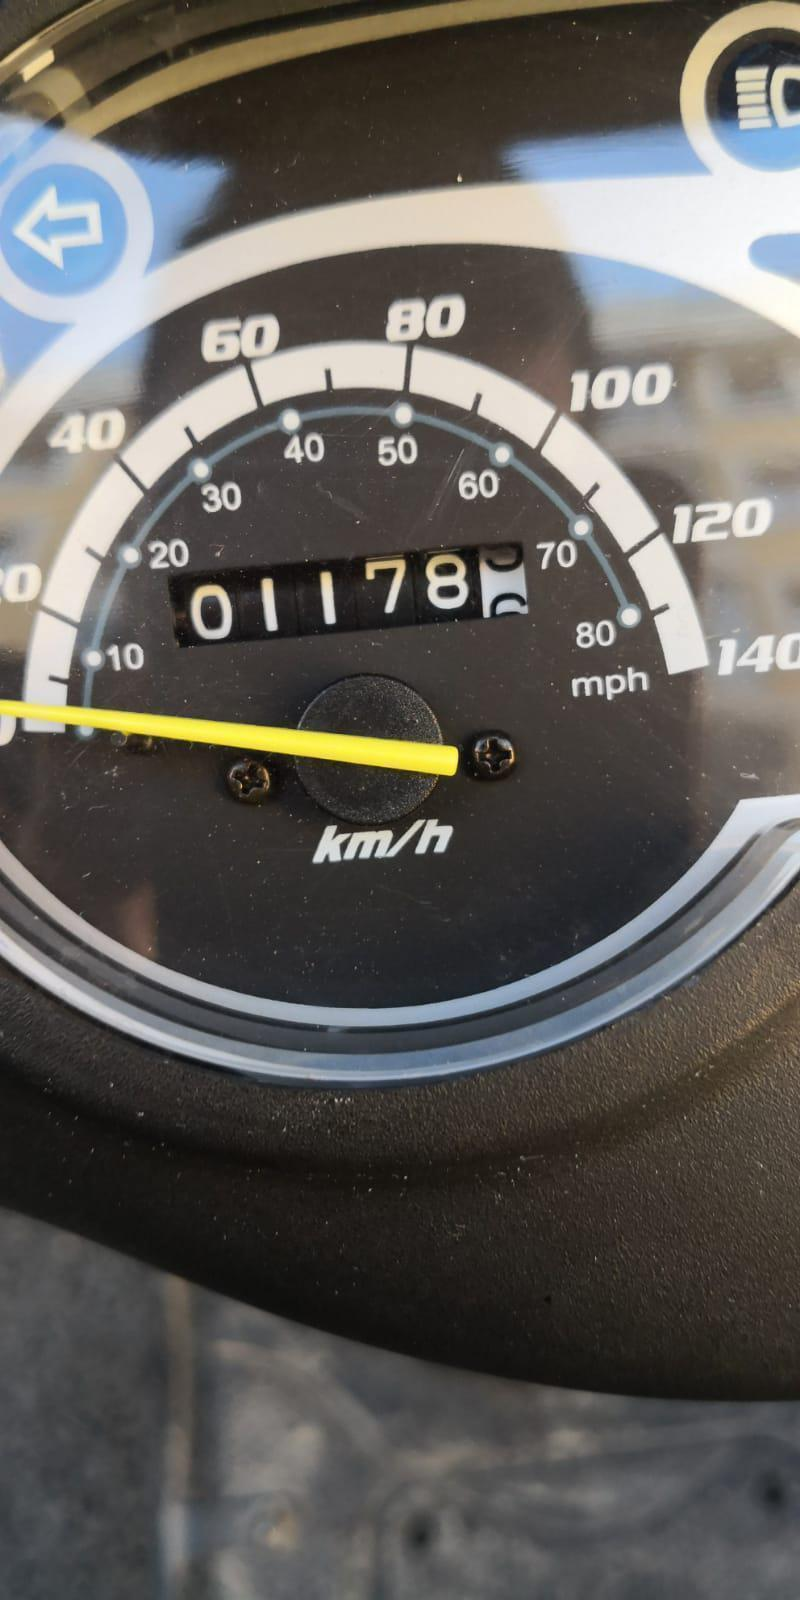0: (190, 580, 235, 648), (170, 536, 189, 567)
1: (253, 570, 287, 639), (315, 565, 344, 633)
6: (479, 586, 534, 638)
7: (359, 555, 407, 622)
8: (424, 549, 474, 620)
odometer: (166, 531, 538, 655)
